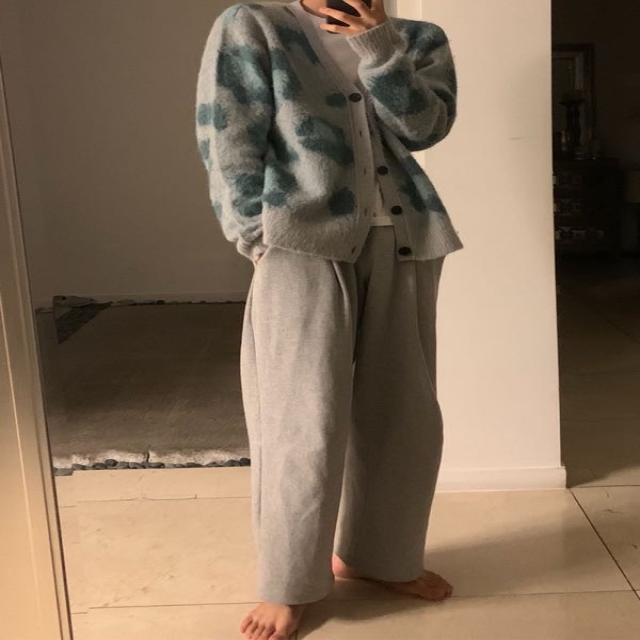cardigan: (208, 8, 462, 268)
trainingpants: (243, 214, 450, 606)
